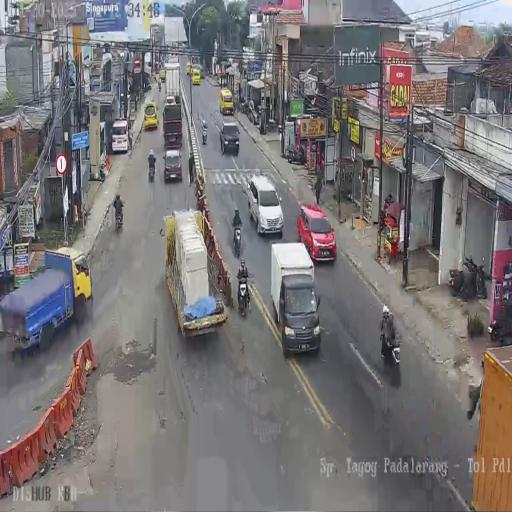3: (3, 246, 94, 357), (269, 242, 314, 352), (162, 94, 182, 148)
car: (246, 173, 282, 237), (298, 204, 336, 262), (218, 118, 240, 155), (163, 148, 183, 183), (111, 118, 130, 154), (143, 102, 159, 130), (219, 88, 234, 115), (192, 67, 201, 86), (159, 68, 166, 81), (154, 62, 160, 74), (186, 62, 191, 75), (199, 67, 204, 79)
truck: (451, 254, 486, 301), (236, 274, 251, 317), (286, 143, 306, 166), (232, 219, 243, 258), (114, 203, 124, 229), (148, 156, 156, 180), (240, 98, 249, 114), (202, 125, 208, 145), (158, 80, 161, 93)
